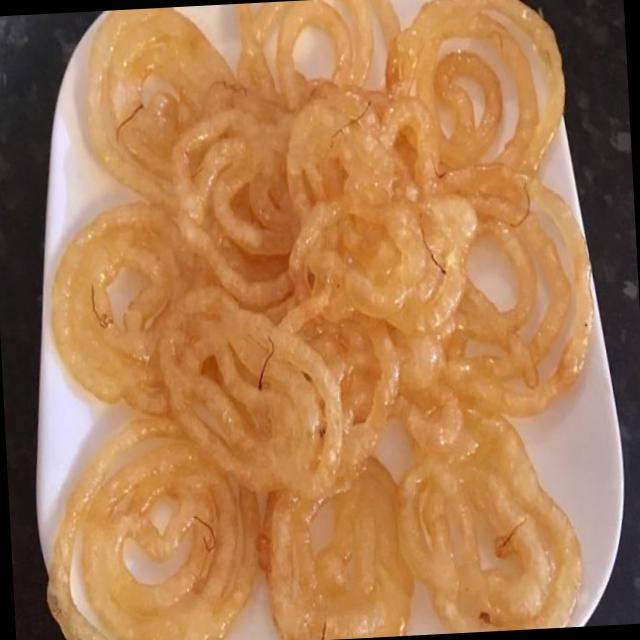jalebi: (28, 0, 582, 640)
